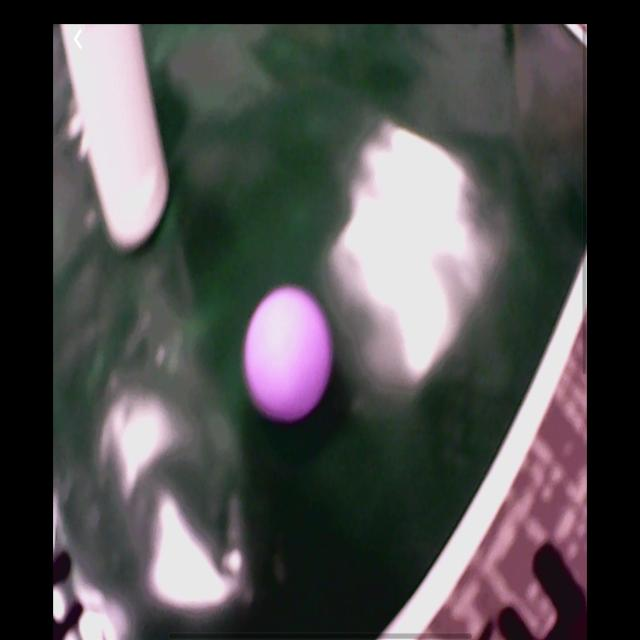ball: (246, 287, 331, 420)
